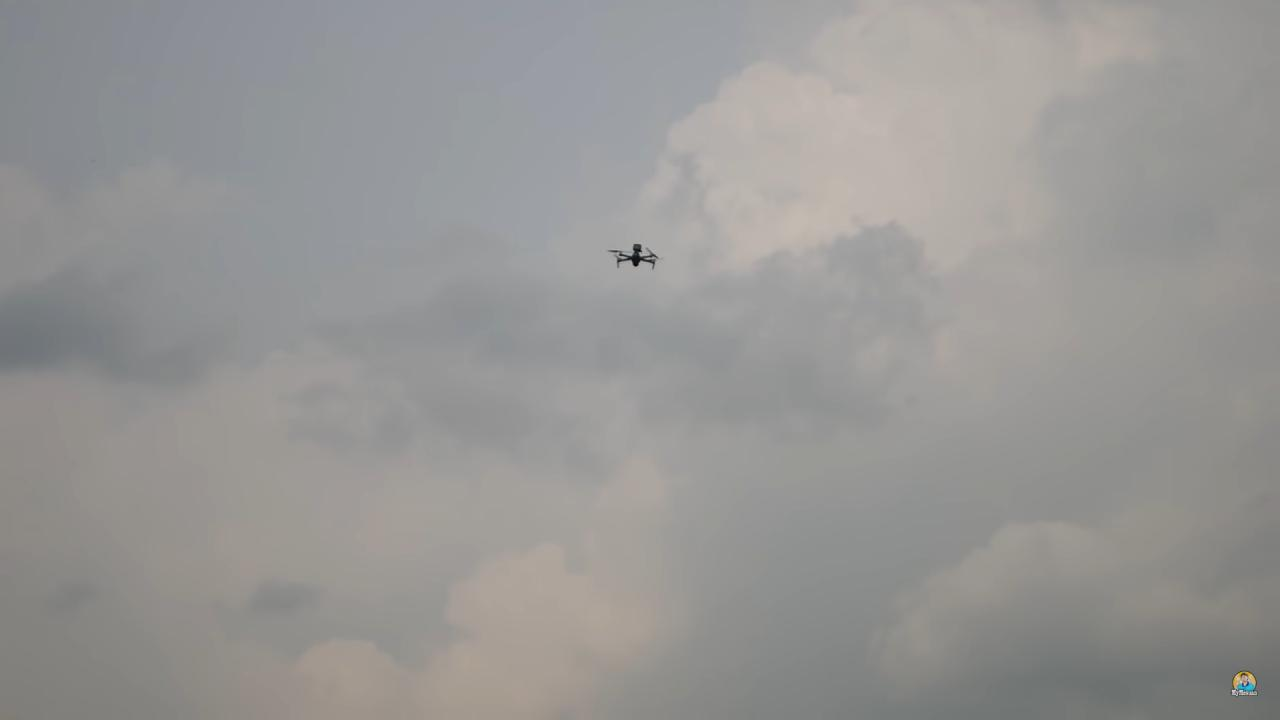Drone: (605, 236, 669, 274)
